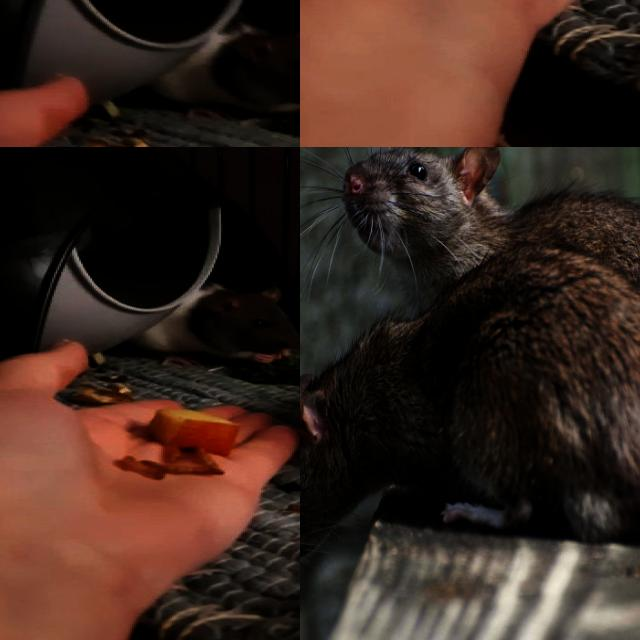rat: (300, 312, 592, 574), (331, 147, 640, 303), (108, 276, 300, 365), (159, 12, 300, 123)
